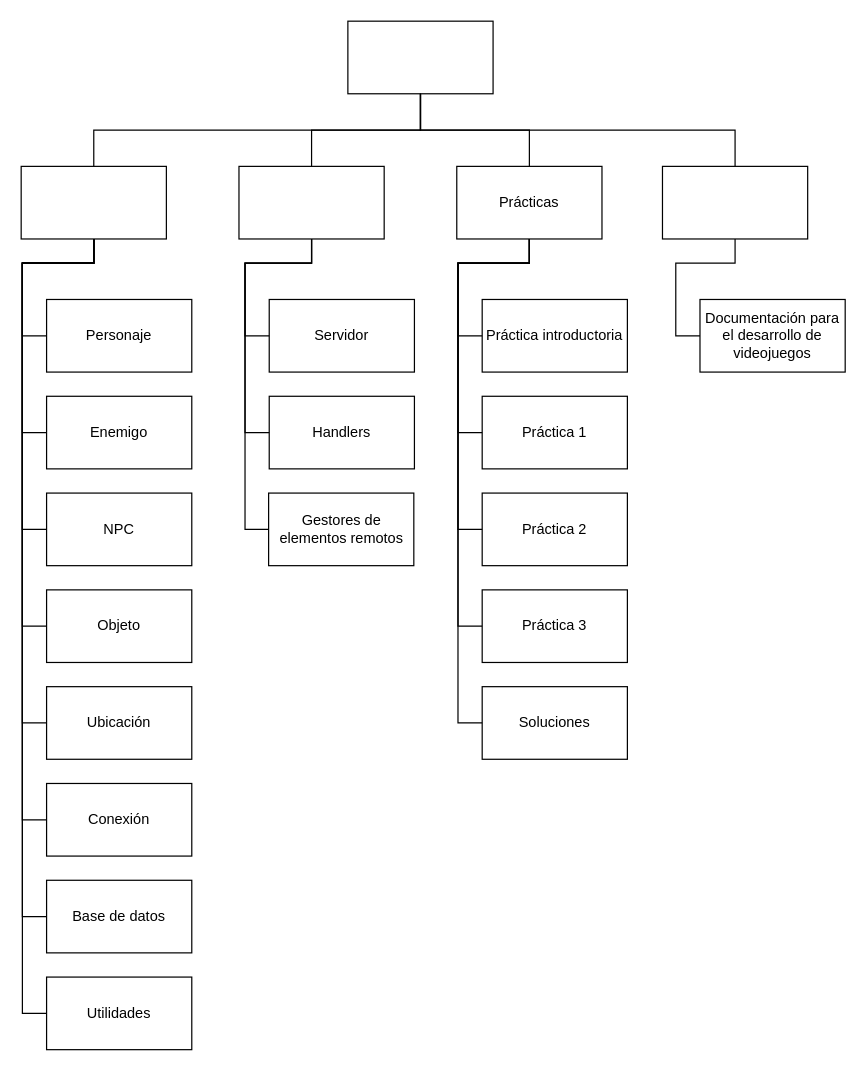
Image size: 866x1071. Some labels were removed from this diagram. The shapes that lost their labels are listed below. From the top down, each one's centre as x and y in pixels, then its label:
the point at 420,57: Sistema
the point at 93,202: Hephaestus
the point at 311,202: Juego Didáctico
the point at 734,202: Documentación Web
